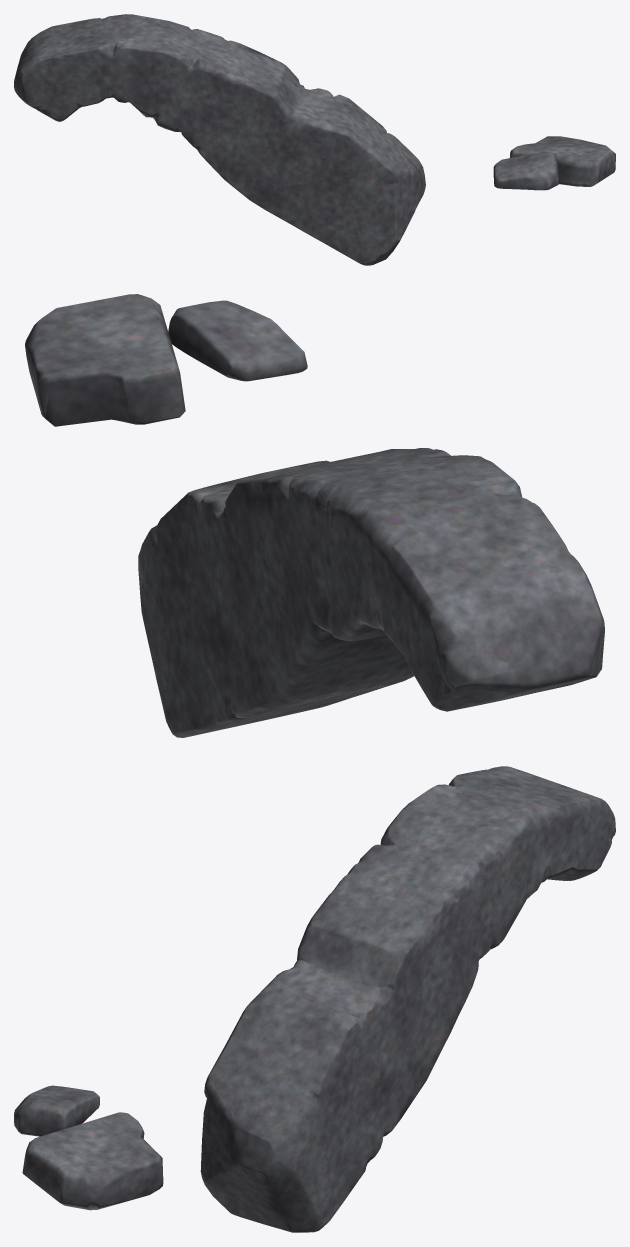
File: caos_stl_rubble_01a_chaos_v36.glb
3 views of the same model, one above another, from view 1: azimuth 30°, elevation 25°; view 2: azimuth 150°, elevation 25°; view 3: azimuth 270°, elevation 25° (orthographic). The views are drawn at different scales.
Parts seen in each view (by area): view 1: caos_stl_rubble_01a; view 2: caos_stl_rubble_01a; view 3: caos_stl_rubble_01a.
Part boxes in pixels (x1,y1,x2,y2): caos_stl_rubble_01a: (14, 14, 615, 265); caos_stl_rubble_01a: (25, 294, 604, 737); caos_stl_rubble_01a: (14, 766, 615, 1232).
Bounding box in the file's own units: 13.13 × 6 × 10.91.
Materials: 1 (1 with a texture image).
